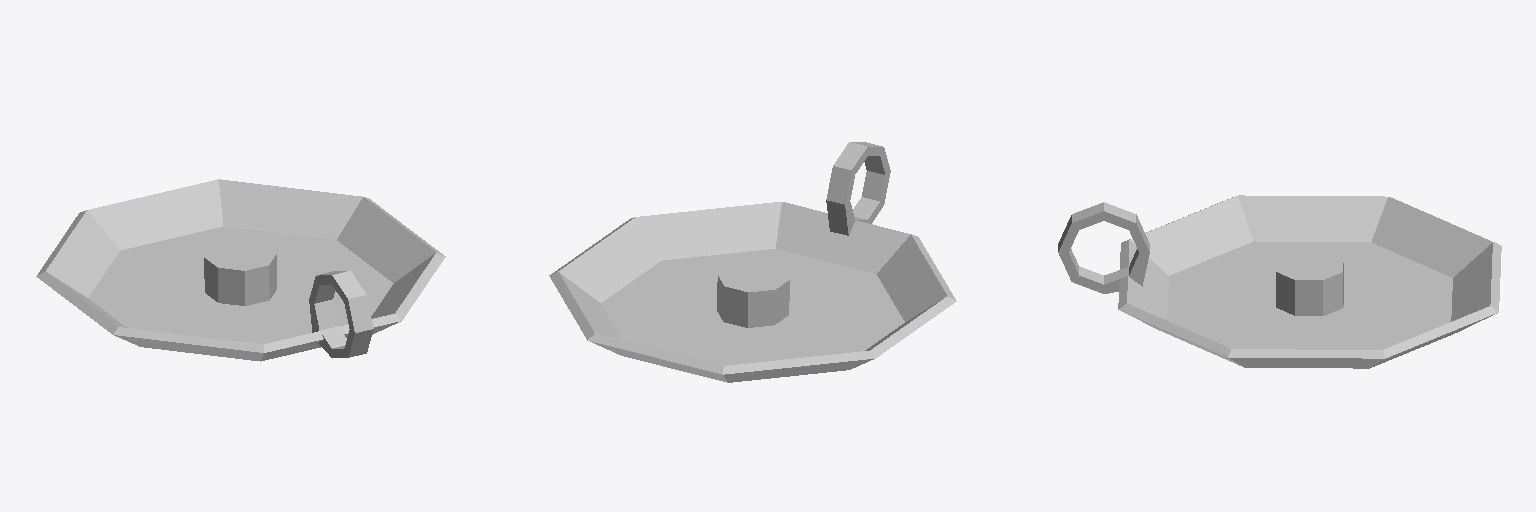
Rendered from base_vela.obj.
3 renders of one model, left to right at view 1: azimuth 30°, elevation 25°; view 2: azimuth 150°, elevation 25°; view 3: azimuth 270°, elevation 25°, orthographic.
Visible parts, largest first — view 1: Circle.003_Circle.004; view 2: Circle.003_Circle.004; view 3: Circle.003_Circle.004.
Part boxes in pixels (x1,y1,x2,y2): Circle.003_Circle.004: (36,179,445,361); Circle.003_Circle.004: (549,142,956,382); Circle.003_Circle.004: (1058,195,1501,368).
Bounding box in the file's own units: 11.51 × 3.18 × 13.31.